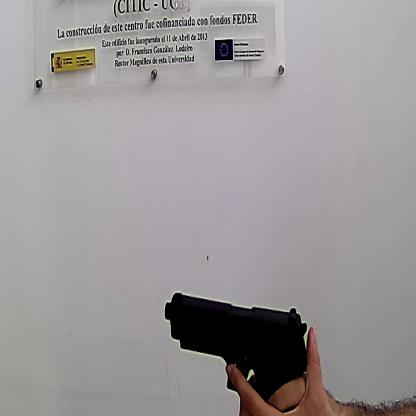gun: (163, 289, 310, 404)
